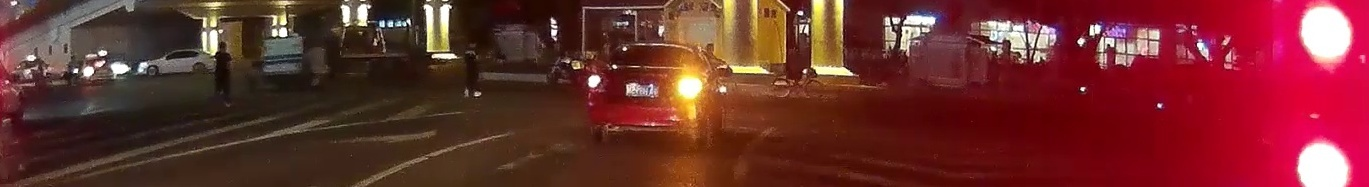L_light: (588, 75, 605, 88)
R_light: (680, 78, 700, 96)
T_light: (645, 47, 660, 51)
night-right: (587, 41, 702, 147)
